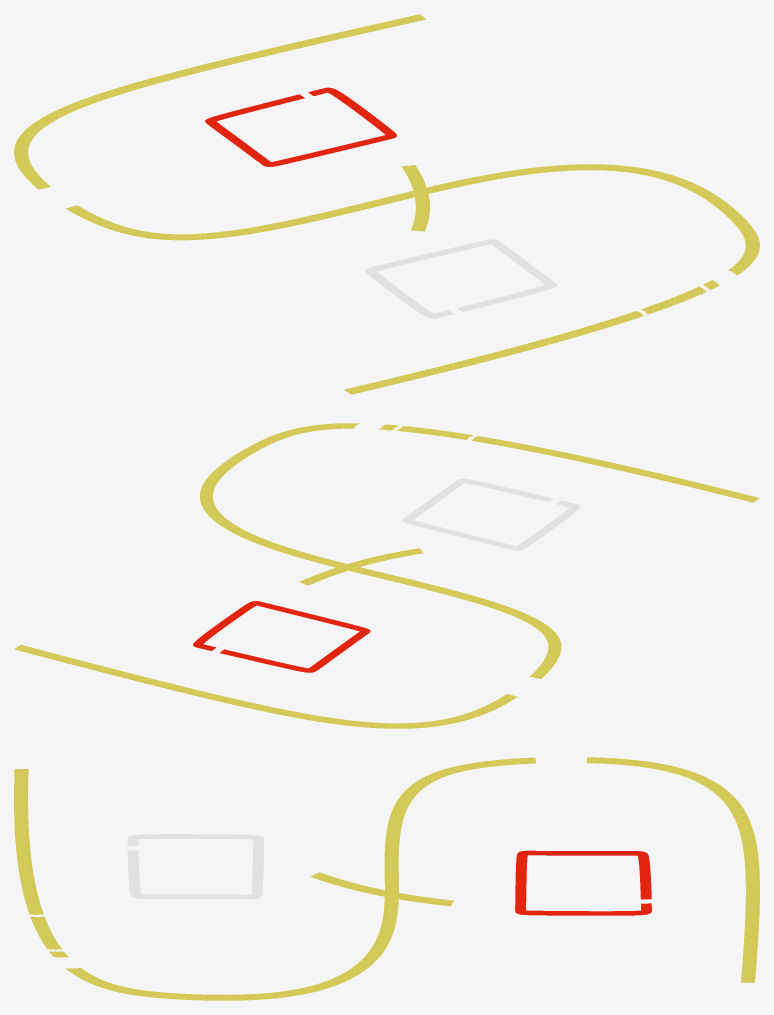
File: tape2.fbx
3 renders of one model, top to bottom at view 1: azimuth 30°, elevation 25°; view 2: azimuth 150°, elevation 25°; view 3: azimuth 270°, elevation 25°, orthographic. The views are drawn at different scales.
Visible parts, largest first — view 1: Plane, Plane.003, Plane.004, Plane.002; view 2: Plane, Plane.004, Plane.003, Plane.002; view 3: Plane, Plane.004, Plane.003, Plane.002.
Part boxes in pixels (left/top/right/bottom): Plane: left=14, top=14, right=759, bottom=394; Plane.003: left=365, top=239, right=556, bottom=318; Plane.004: left=205, top=87, right=396, bottom=166; Plane.002: left=401, top=165, right=429, bottom=231; Plane: left=14, top=423, right=759, bottom=728; Plane.004: left=193, top=601, right=370, bottom=672; Plane.003: left=402, top=478, right=579, bottom=550; Plane.002: left=299, top=548, right=423, bottom=585; Plane: left=14, top=757, right=759, bottom=1000; Plane.004: left=515, top=850, right=651, bottom=915; Plane.003: left=127, top=834, right=264, bottom=899; Plane.002: left=310, top=872, right=453, bottom=906.
Bounding box in the file's own units: 357 × 0.0243 × 462.
4 materials, 2 textured.
